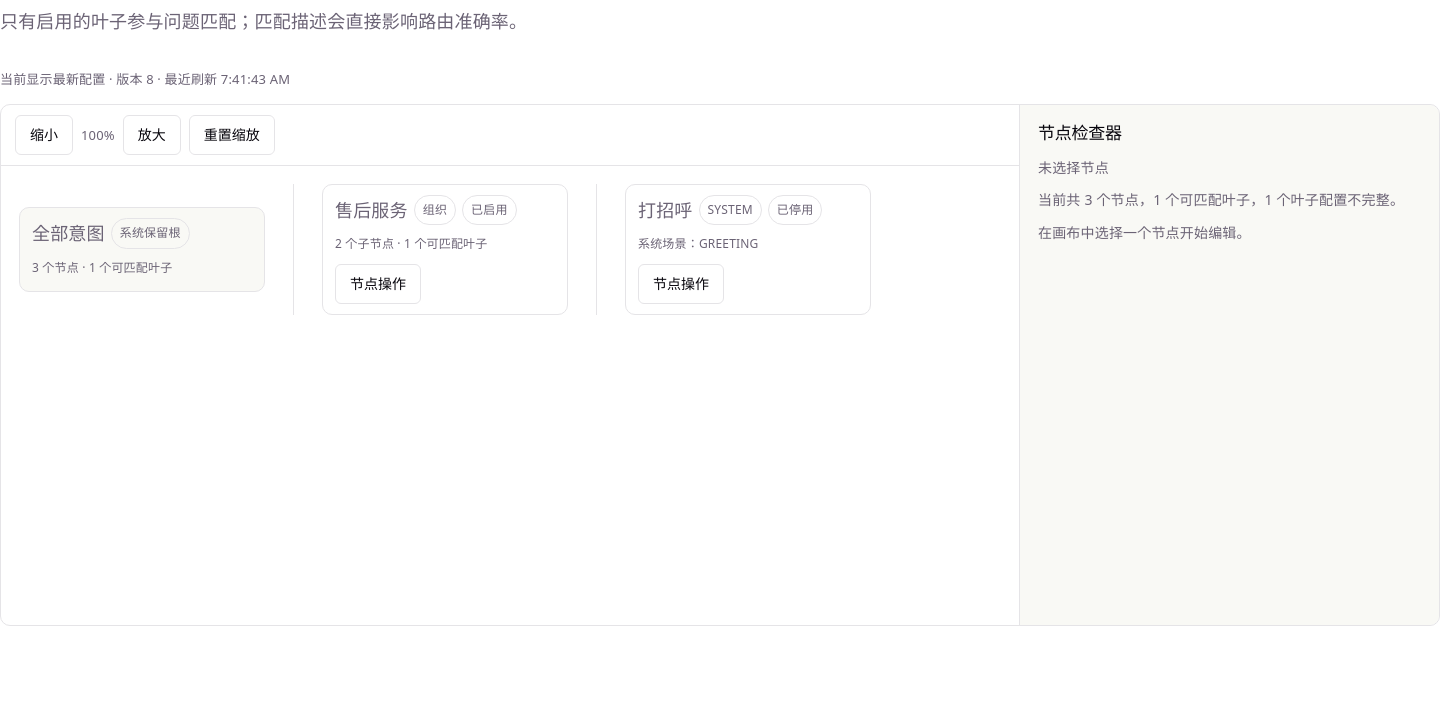
意图树 C — 画布与检查器 › 按角色给出不同表单，且不出现 3A 明确不做的能力
组织节点：只有匹配描述，没有示例、绑定和回答附加规则。
Click the list item "售后服务" at (596, 250), box x1=322 y1=184 x2=871 y2=315
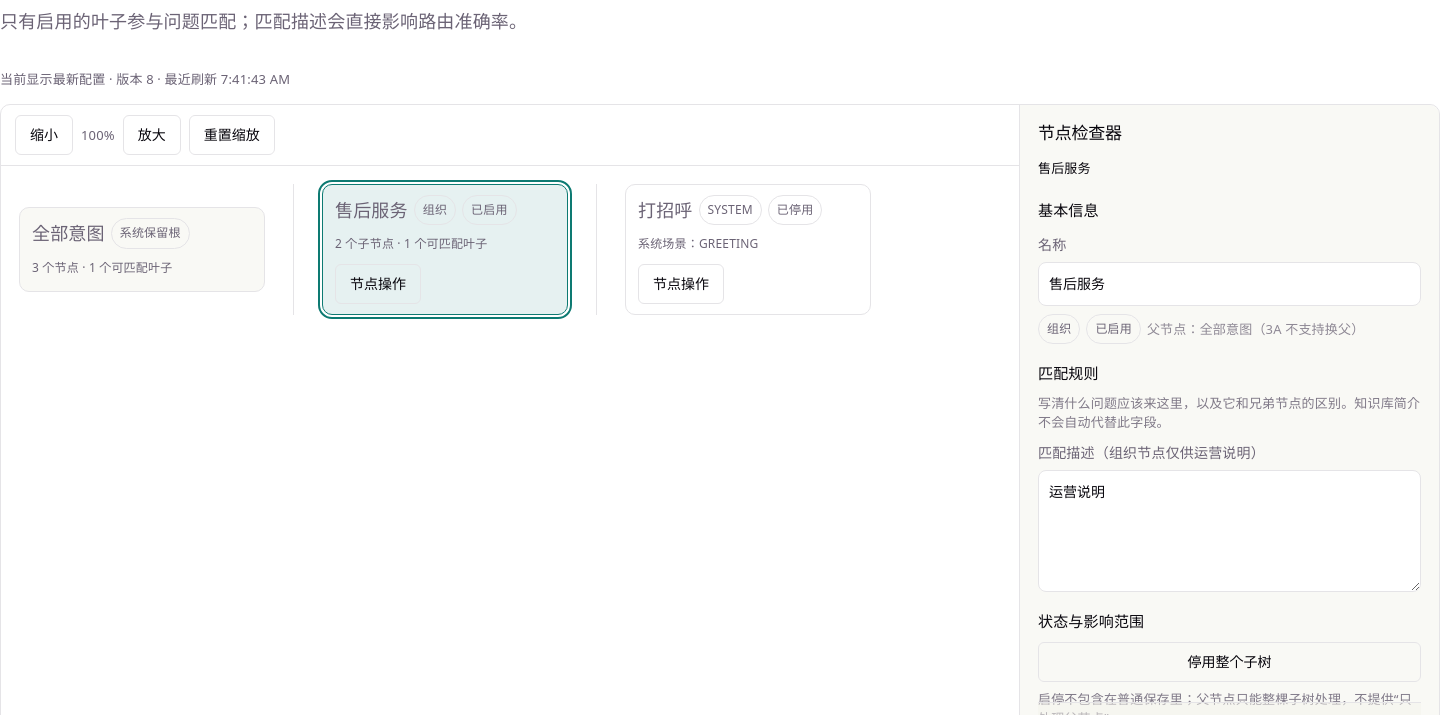
Check: the field labelled "回答附加规则" is not shown
Check: the text box labelled "匹配描述" is shown, box x1=1038 y1=470 x2=1421 y2=592
SYSTEM 叶子：受控闭集下拉，没有知识库选择器。
Click the list item "打招呼 SYSTEM 已停用 系统场景：GREETING 节点操作" at (748, 250), box x1=625 y1=184 x2=871 y2=315
(page scrolled)
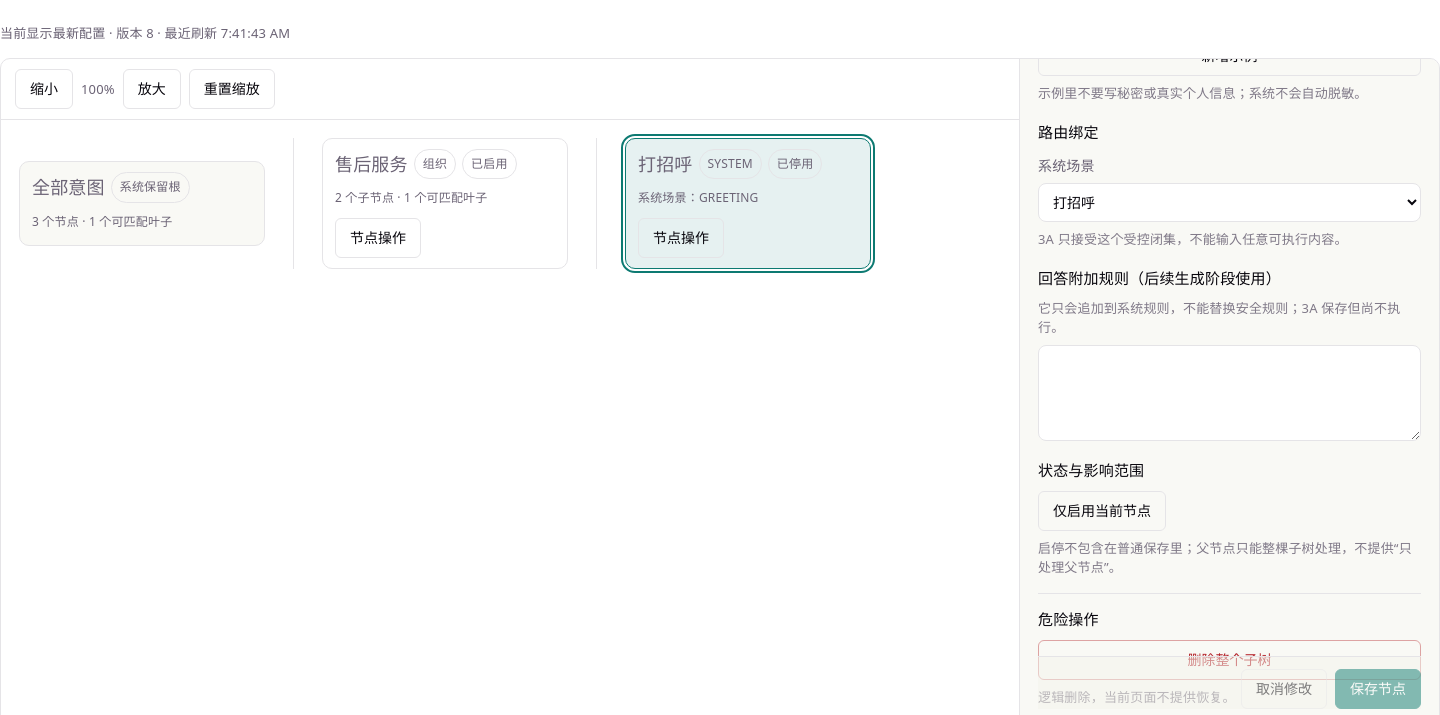
Check: the dropdown labelled "系统场景" shows "打招呼", box x1=1038 y1=183 x2=1421 y2=222
Check: the text box named "回答附加规则" is shown, box x1=1038 y1=345 x2=1421 y2=441
Check: the text "父节点：全部意图（3A 不支持换父）" is gone
